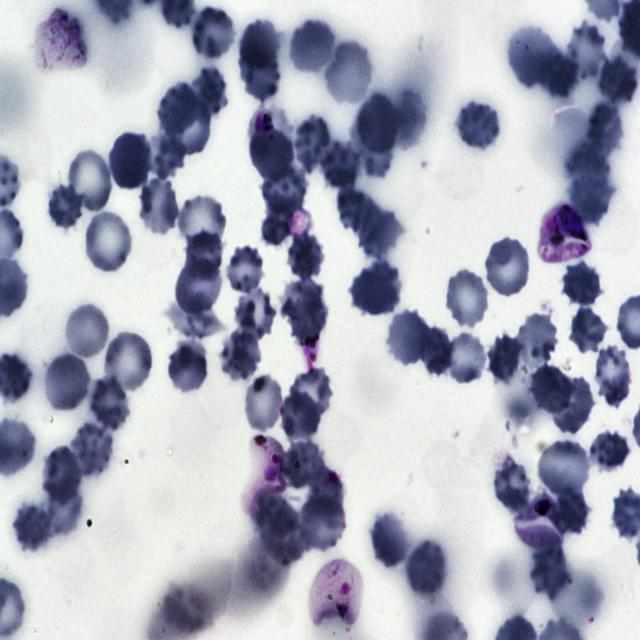difficult: (34, 5, 88, 76)
gametocyte: (536, 203, 592, 267)
red blood cell: (338, 189, 400, 259), (256, 494, 308, 566), (323, 40, 374, 106), (280, 281, 328, 342), (179, 192, 226, 254), (350, 261, 400, 318), (508, 27, 554, 88), (538, 441, 589, 496), (85, 211, 130, 272), (105, 334, 152, 392), (175, 256, 222, 314), (44, 352, 90, 410), (386, 308, 431, 367), (351, 115, 393, 178), (357, 91, 400, 152), (548, 375, 594, 432), (165, 293, 222, 338), (486, 238, 530, 296), (68, 152, 112, 210), (260, 162, 308, 215), (41, 446, 84, 504), (169, 96, 211, 155), (86, 374, 129, 431), (110, 132, 152, 190), (300, 496, 345, 550), (70, 422, 113, 478), (238, 43, 280, 100), (250, 131, 296, 183), (65, 304, 109, 358), (446, 270, 488, 326), (290, 20, 334, 73), (232, 288, 275, 342), (318, 138, 360, 193), (389, 91, 428, 150), (290, 368, 332, 422), (569, 176, 615, 224), (192, 7, 234, 59), (596, 346, 630, 410), (140, 177, 178, 234), (406, 540, 446, 594), (565, 142, 610, 190), (146, 130, 188, 181), (158, 81, 196, 137), (566, 22, 604, 78), (417, 321, 454, 378), (529, 365, 572, 414), (370, 514, 409, 568), (285, 231, 326, 282), (446, 332, 487, 383), (294, 115, 330, 173), (518, 314, 558, 365), (588, 101, 622, 161), (245, 375, 282, 430), (560, 260, 603, 307), (221, 330, 261, 380), (538, 52, 581, 98), (240, 19, 280, 68), (168, 340, 207, 390), (458, 102, 498, 150), (189, 68, 227, 118), (530, 551, 568, 601), (308, 467, 345, 518), (284, 441, 324, 488), (494, 459, 530, 511), (185, 230, 222, 280), (46, 485, 83, 535), (282, 390, 318, 441), (569, 306, 608, 352), (14, 502, 49, 552), (598, 56, 636, 102), (553, 489, 591, 534), (228, 247, 264, 294), (47, 184, 83, 230), (488, 334, 522, 382), (592, 431, 630, 470)
trophozoite: (309, 560, 365, 632), (242, 435, 286, 513), (513, 492, 566, 550), (249, 104, 294, 141)
